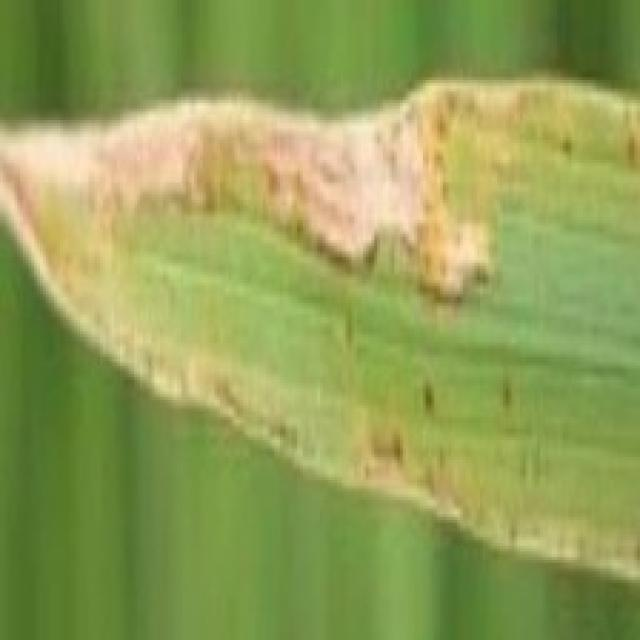Rice___Bacterial_Leaf_Blight: (0, 72, 637, 578)
